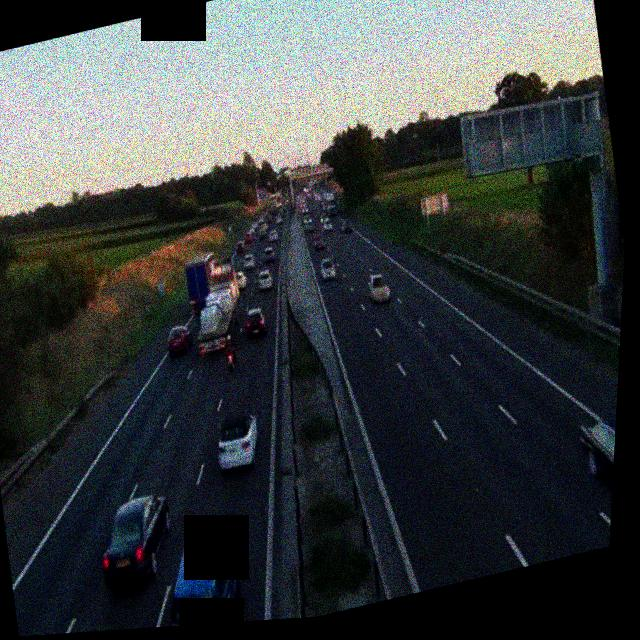car: (154, 530, 253, 628), (90, 489, 181, 594), (572, 410, 617, 541), (212, 409, 264, 474), (162, 321, 195, 356), (365, 268, 392, 305), (242, 304, 269, 338), (253, 267, 275, 292), (317, 256, 337, 283), (240, 251, 257, 270), (310, 231, 326, 250), (261, 244, 277, 263), (338, 215, 351, 233), (320, 217, 333, 233), (230, 246, 242, 263), (302, 216, 313, 230), (268, 229, 279, 242), (245, 230, 256, 243), (299, 206, 307, 216)
truck: (184, 269, 256, 362), (179, 250, 225, 316), (321, 189, 337, 218)
